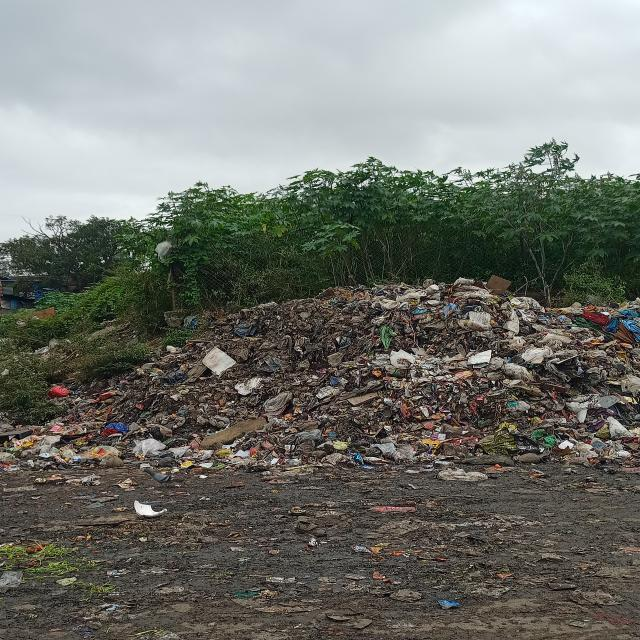garbage: (4, 284, 640, 521)
